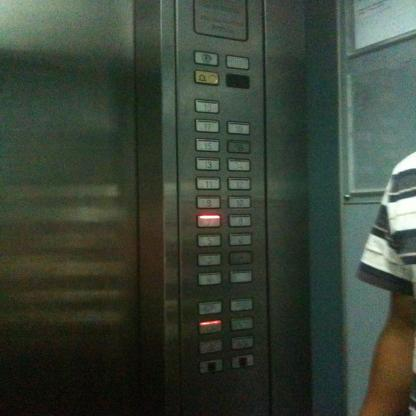10: (227, 195, 252, 209)
11: (194, 176, 221, 191)
12: (226, 176, 251, 190)
13: (194, 156, 221, 171)
14: (226, 158, 250, 172)
15: (195, 138, 220, 152)
16: (226, 139, 250, 154)
17: (194, 118, 220, 133)
18: (226, 120, 250, 135)
19: (195, 98, 219, 113)
3: (196, 252, 222, 267)
5: (196, 233, 221, 247)
6: (227, 232, 253, 246)
7: (196, 214, 221, 228)
8: (228, 214, 252, 227)
9: (195, 195, 221, 209)
S: (199, 340, 222, 354)
alarm: (193, 69, 220, 86)
blur: (195, 271, 223, 286), (197, 319, 223, 335), (197, 300, 223, 315), (198, 358, 222, 374), (229, 316, 254, 331), (230, 354, 254, 369), (228, 251, 253, 265), (229, 298, 254, 311), (230, 336, 253, 350)
empty: (225, 73, 250, 89), (228, 270, 252, 284)
keyhole: (192, 50, 219, 67)
speaker: (225, 54, 250, 70)
